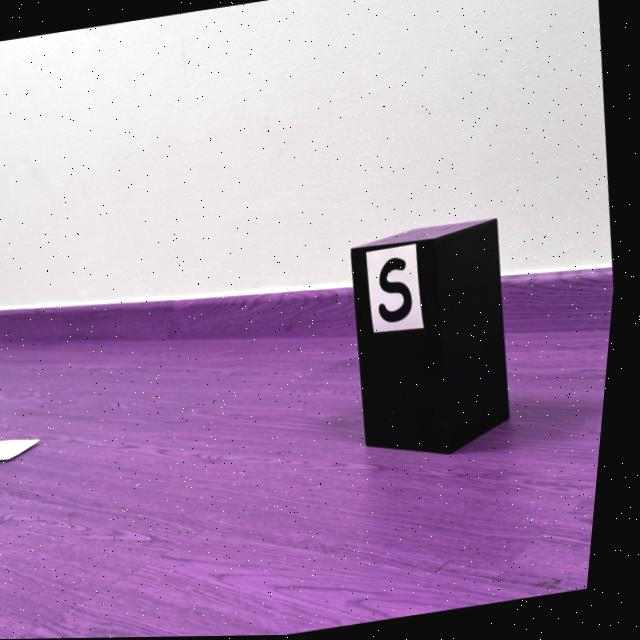S: (385, 259, 418, 323)
